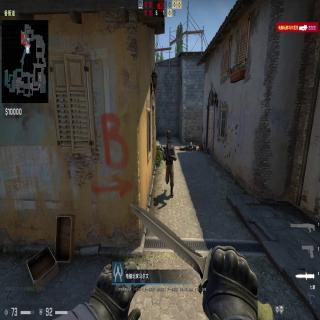T-Body: (163, 140, 176, 195), (166, 126, 172, 139)
T-Head: (168, 140, 172, 149), (168, 126, 170, 131)
